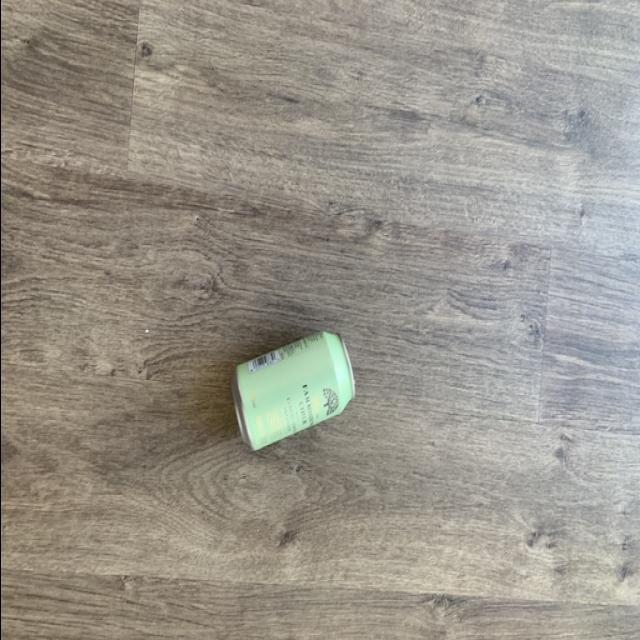Aluminum Can: (222, 317, 358, 465)
